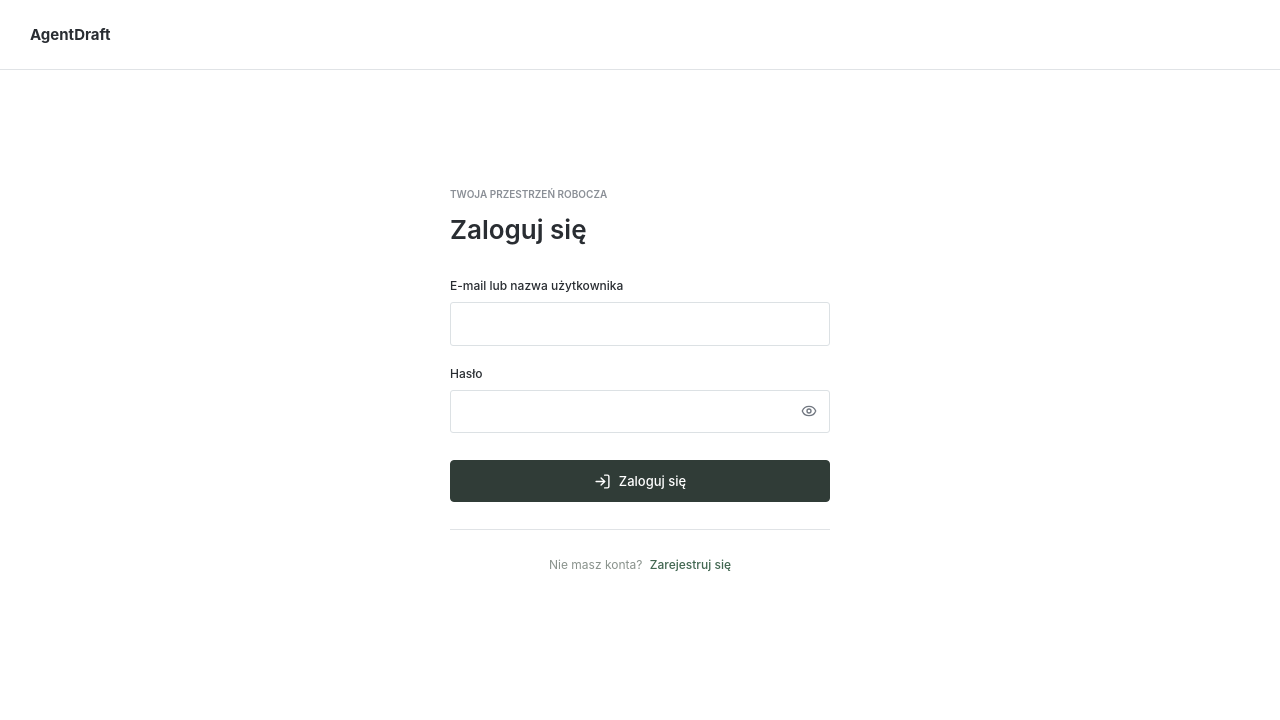
Test case: authentication forms connected to the API › shows a credential error and retains the entered identity for correction
Type "writer1" into the field labelled "E-mail lub nazwa użytkownika" at (640, 324), box [450,302,830,346]
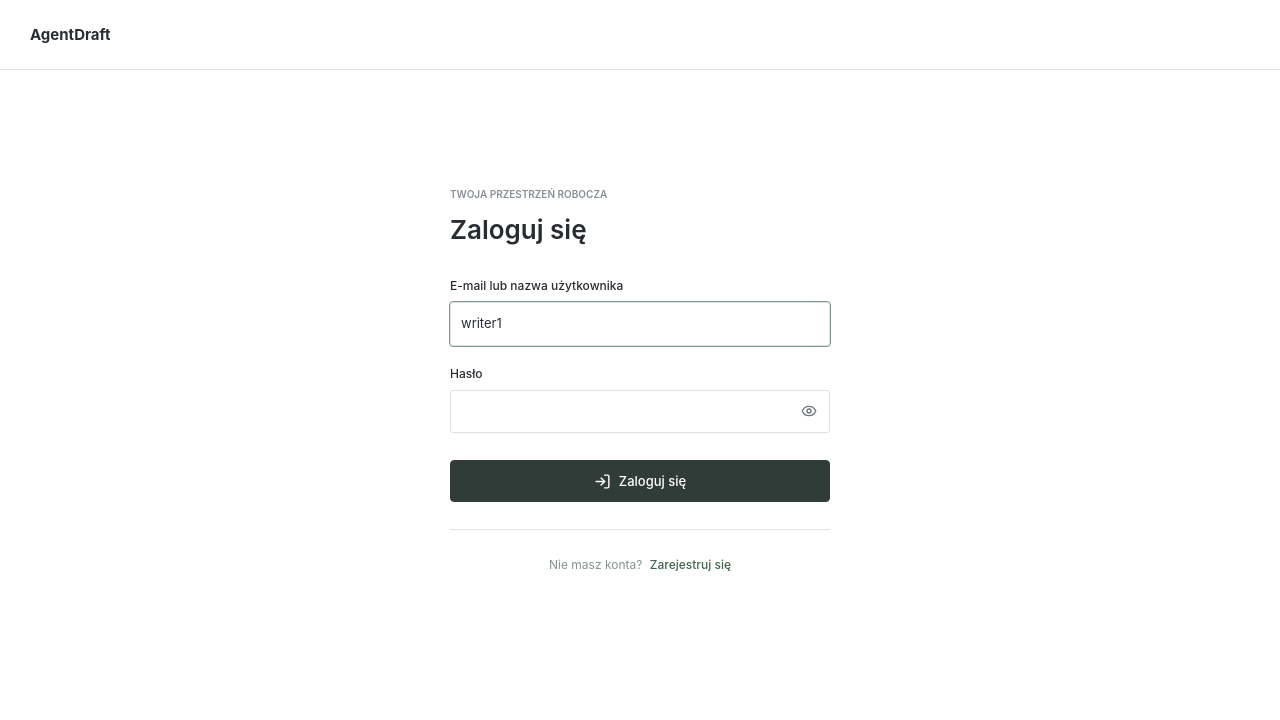
Type "wrong-password" into the password field labelled "Hasło" at (640, 411), box [450,390,830,433]
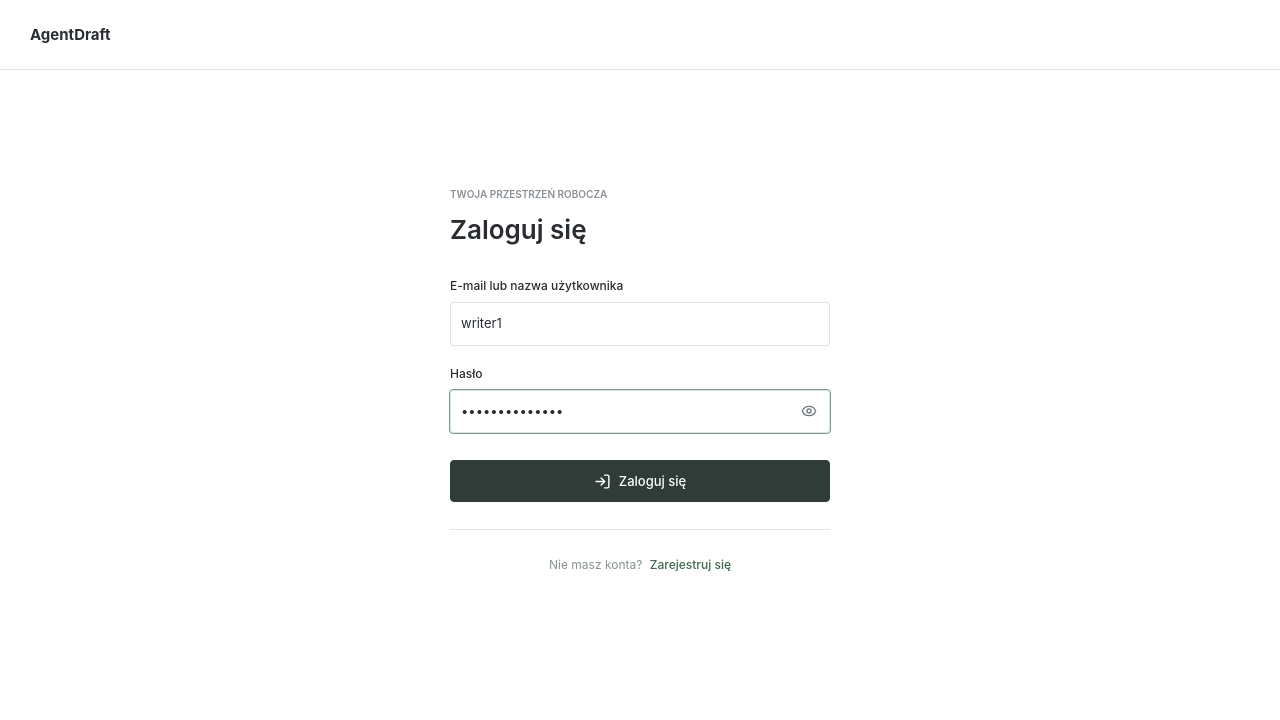
Click the button "Zaloguj się" at (640, 481), box [450,460,830,502]
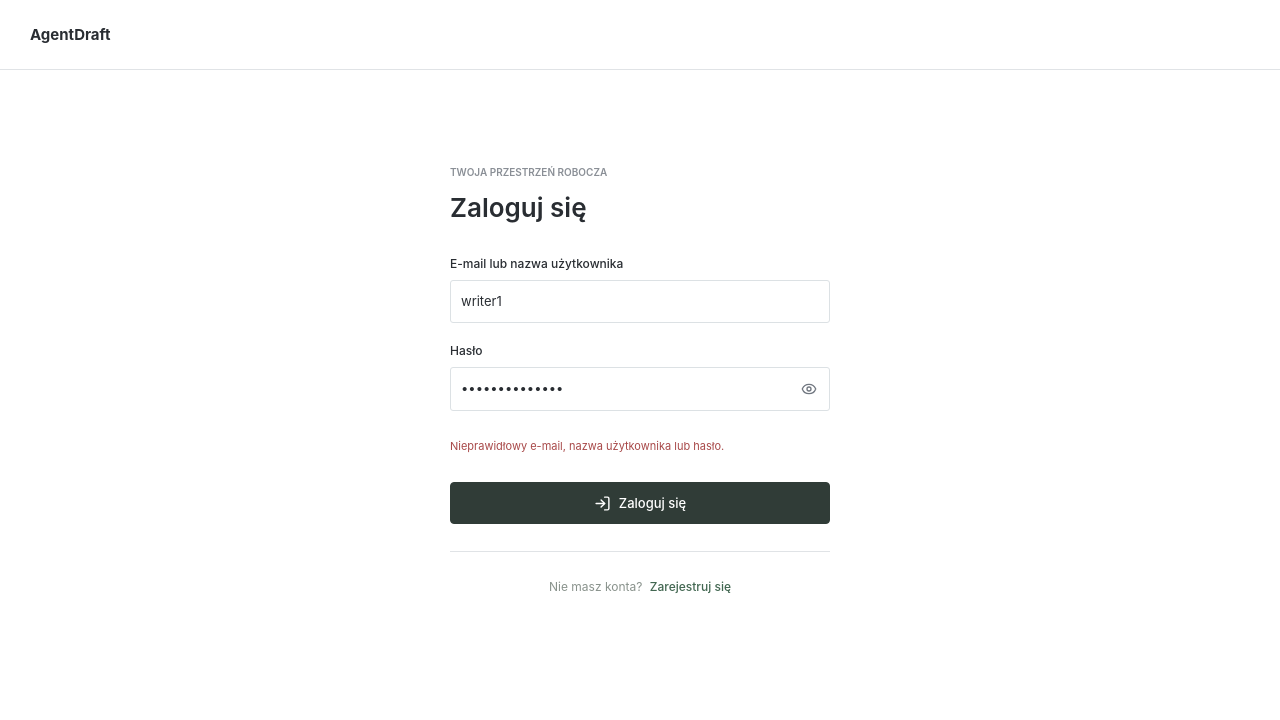
Now the message reads "Nieprawidłowy e-mail, nazwa użytkownika lub hasło.", box [450,439,724,453]
